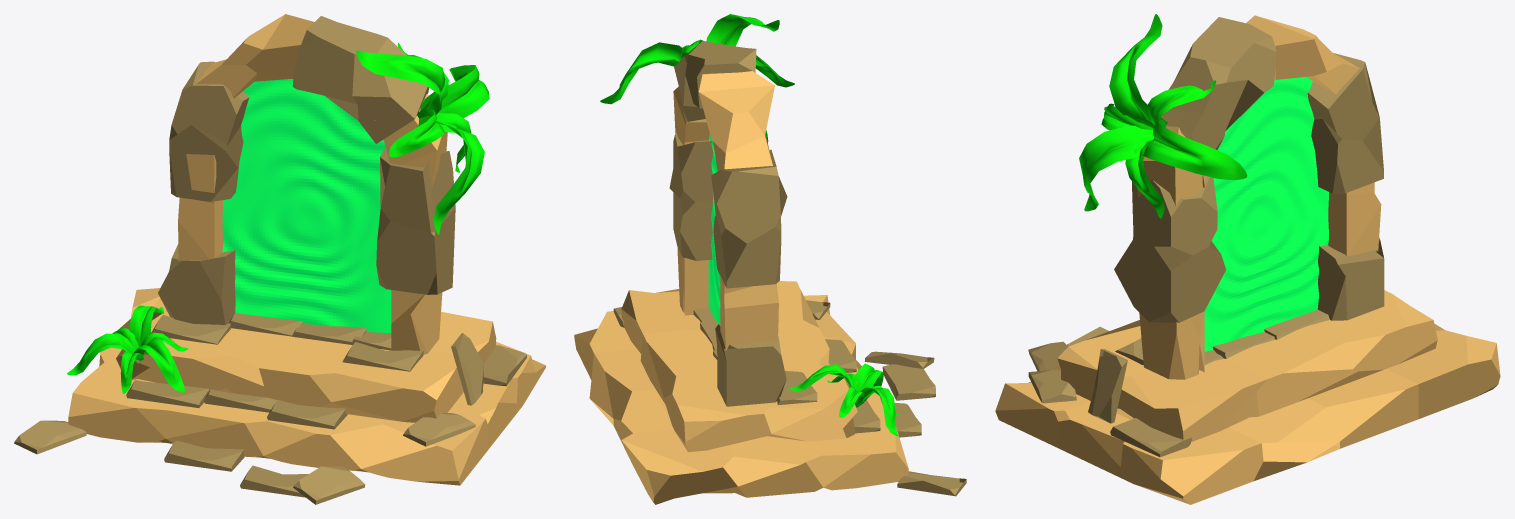
The model's file is sand_portal.glb.
3 views of the same model, side by side, from view 1: azimuth 30°, elevation 25°; view 2: azimuth 150°, elevation 25°; view 3: azimuth 270°, elevation 25° (orthographic). The views are drawn at different scales.
Visible parts, largest first — view 1: Plane.003_3, Plane.001_1, Plane.004_5, Plane.002_2, Plane_0, Plane.007_22, Plane.006_21, Cube.012_18, Plane.009_24, Cube.013_19, Cube.014_20, Cube.008_14 (+15 smaller); view 2: Plane.004_5, Plane.001_1, Plane.002_2, Plane_0, Cube.011_17, Plane.006_21, Plane.007_22, Cube.014_20, Plane.003_3, Cube.005_11, Cube.012_18, Cube.013_19 (+5 smaller); view 3: Plane.001_1, Plane.004_5, Plane.003_3, Plane.002_2, Plane_0, Plane.006_21, Plane.009_24, Plane.007_22, Cube.003_9, Cube.010_16, Cube.009_15, Plane.011_26 (+5 smaller).
Boxes of the visible parts, bbox=[...] form: Plane.003_3: bbox=[222, 79, 391, 332]; Plane.001_1: bbox=[158, 16, 455, 324]; Plane.004_5: bbox=[68, 288, 545, 485]; Plane.002_2: bbox=[116, 299, 496, 422]; Plane_0: bbox=[178, 14, 447, 354]; Plane.007_22: bbox=[356, 50, 445, 126]; Plane.006_21: bbox=[422, 65, 489, 118]; Cube.012_18: bbox=[293, 466, 365, 504]; Plane.009_24: bbox=[418, 119, 484, 234]; Cube.013_19: bbox=[164, 440, 244, 471]; Cube.014_20: bbox=[14, 420, 86, 454]; Cube.008_14: bbox=[267, 400, 347, 429]; Plane.004_5: bbox=[574, 295, 908, 504]; Plane.001_1: bbox=[669, 41, 787, 406]; Plane.002_2: bbox=[621, 281, 857, 452]; Plane_0: bbox=[673, 71, 778, 351]; Cube.011_17: bbox=[882, 364, 935, 400]; Plane.006_21: bbox=[600, 42, 682, 104]; Plane.007_22: bbox=[706, 14, 779, 46]; Cube.014_20: bbox=[897, 471, 966, 496]; Plane.003_3: bbox=[708, 134, 720, 324]; Cube.005_11: bbox=[777, 371, 817, 405]; Cube.012_18: bbox=[864, 351, 934, 368]; Cube.013_19: bbox=[894, 403, 921, 437]; Plane.001_1: bbox=[1114, 17, 1384, 322]; Plane.004_5: bbox=[995, 323, 1500, 504]; Plane.003_3: bbox=[1204, 76, 1328, 351]; Plane.002_2: bbox=[1057, 290, 1437, 441]; Plane_0: bbox=[1137, 15, 1381, 379]; Plane.006_21: bbox=[1143, 119, 1247, 180]; Plane.009_24: bbox=[1079, 125, 1154, 211]; Plane.007_22: bbox=[1109, 14, 1167, 127]; Cube.003_9: bbox=[1088, 349, 1127, 423]; Cube.010_16: bbox=[1110, 418, 1191, 457]; Cube.009_15: bbox=[1028, 370, 1076, 403]; Plane.011_26: bbox=[1148, 80, 1216, 124].
Size of the model in its own units: 5.81 by 4.57 by 5.32.
